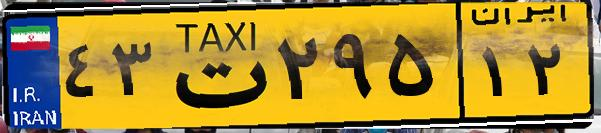1: (475, 38, 525, 113)
2: (270, 28, 330, 110), (525, 38, 570, 115)
3: (110, 28, 158, 98)
4: (57, 26, 110, 100)
5: (385, 28, 445, 110)
9: (330, 28, 385, 110)
ت: (158, 12, 270, 120)
